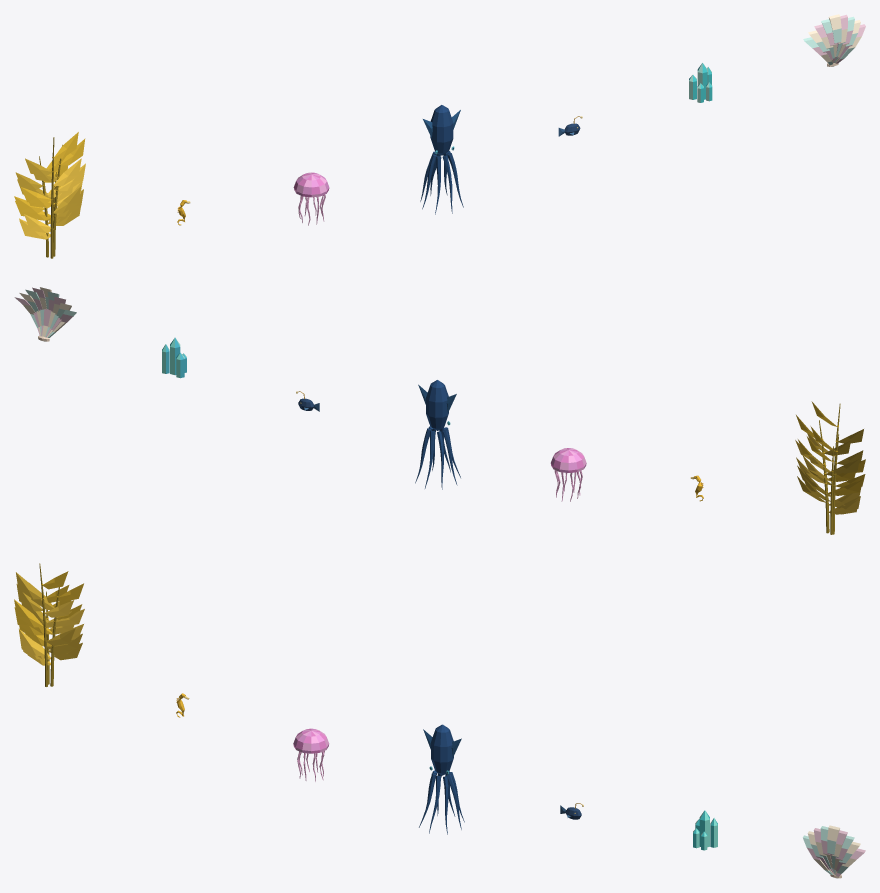
File: location-kit.glb
3 renders of one model, top to bottom at view 1: azimuth 30°, elevation 25°; view 2: azimuth 150°, elevation 25°; view 3: azimuth 330°, elevation 25°, orthographic.
Visible parts, largest first — view 1: Mantle, Faceted bell; view 2: Mantle, Faceted bell; view 3: Mantle, Faceted bell.
Boxes of the visible parts, x1=… form: Mantle: x1=430, y1=105, x2=453, y2=155; Faceted bell: x1=293, y1=172, x2=329, y2=197; Mantle: x1=426, y1=380, x2=448, y2=430; Faceted bell: x1=550, y1=448, x2=586, y2=472; Mantle: x1=431, y1=724, x2=453, y2=775; Faceted bell: x1=293, y1=728, x2=329, y2=753.
Size of the model in its own units: 228 by 43.22 by 11.08.
